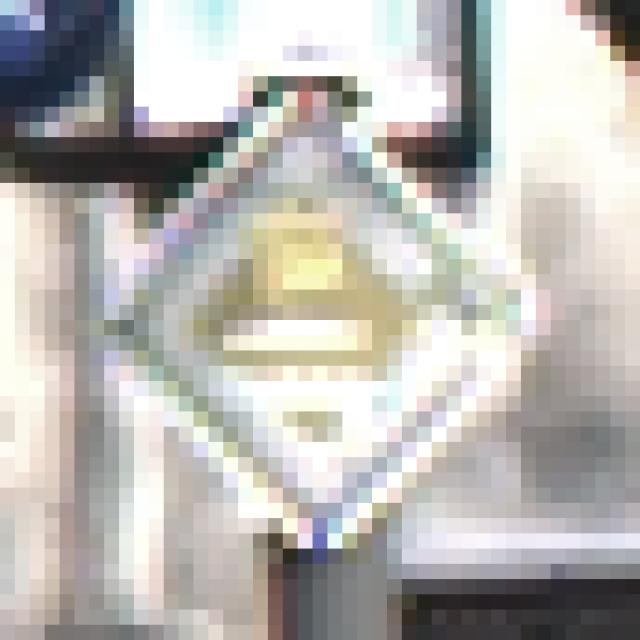Main Road: (76, 92, 567, 565)
